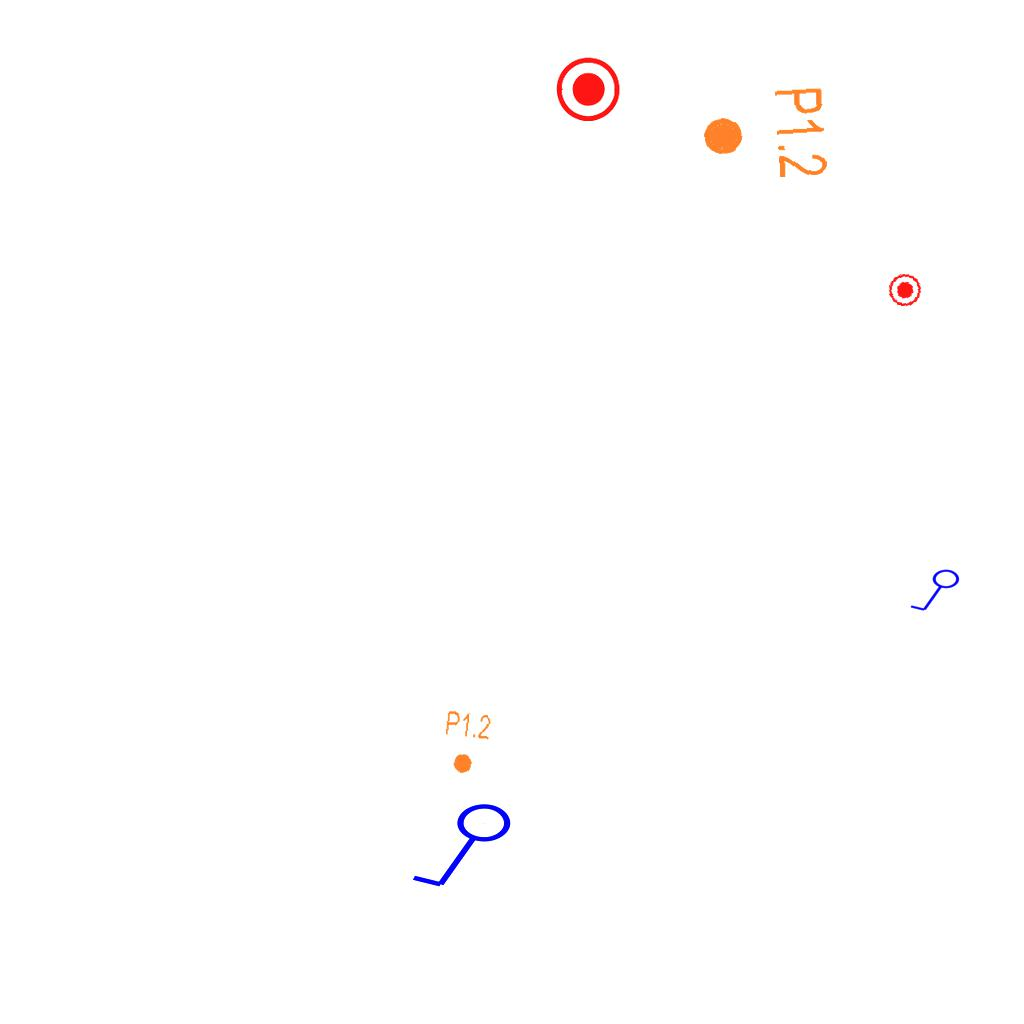Ausschalter: (410, 801, 522, 897), (909, 568, 965, 616)
Downlight_LED_Einbauleuchten_Flur: (697, 84, 832, 186), (439, 708, 493, 778)
Taster: (556, 55, 622, 121), (885, 269, 926, 310)
